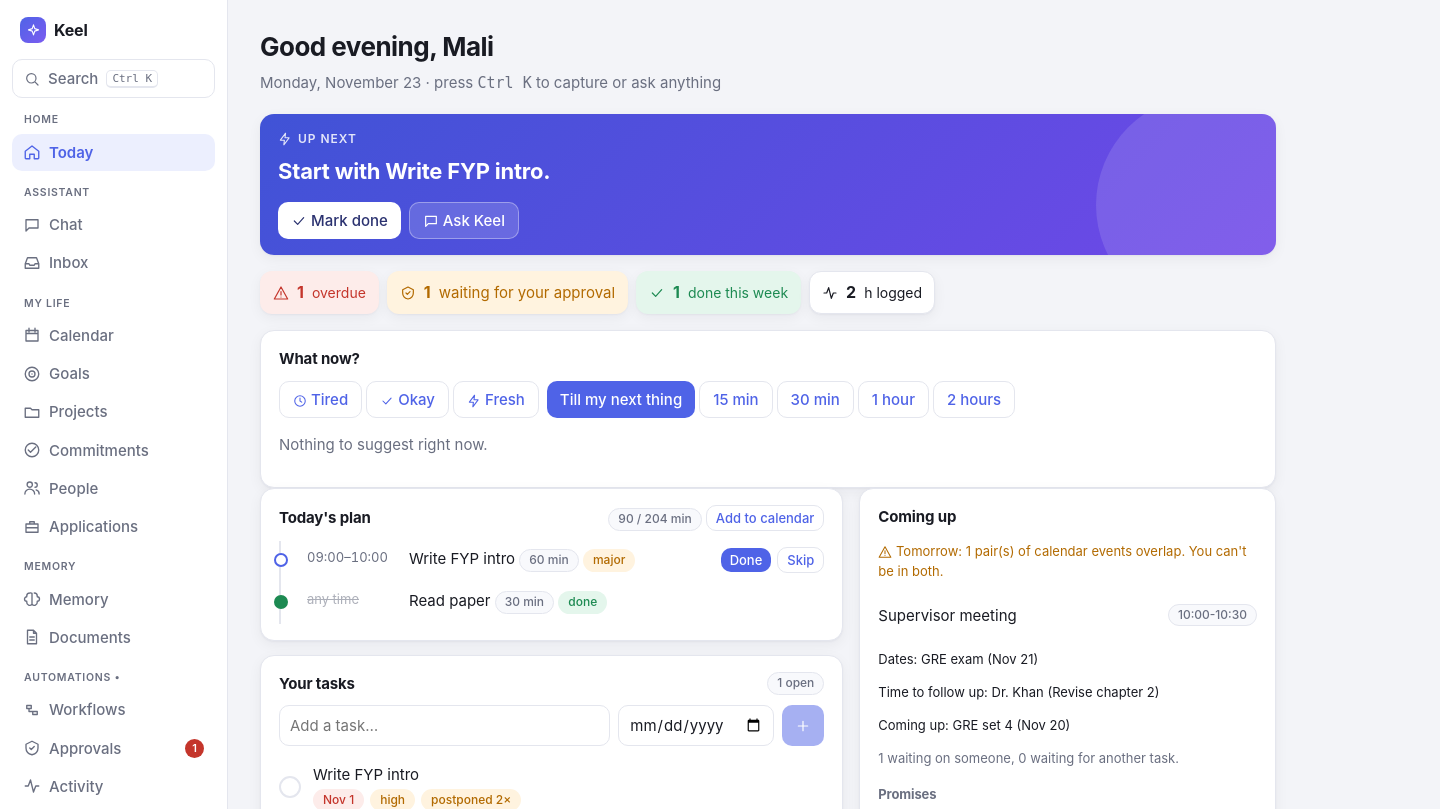
Scenario: dashboard smoke tests › Applications tab checks eligibility and readiness on request
What coordinates should you click on to do the following:
click the button "Applications"
I would click on:
 (114, 527)
Its box is top-left (12, 508), bottom-right (215, 545).
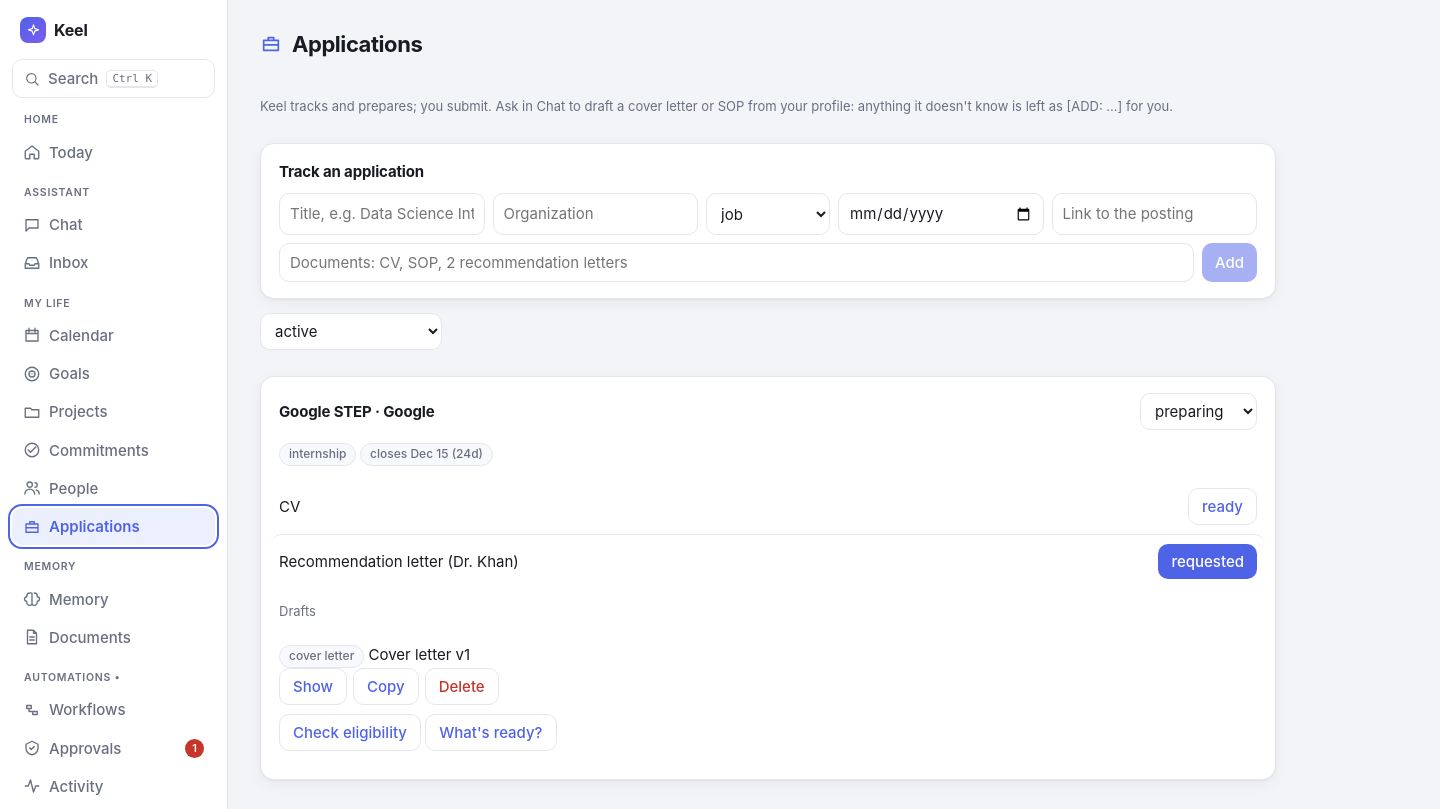
What coordinates should you click on to do the following:
click the button "Check eligibility"
I would click on:
 (350, 733)
Its box is top-left (279, 714), bottom-right (421, 751).
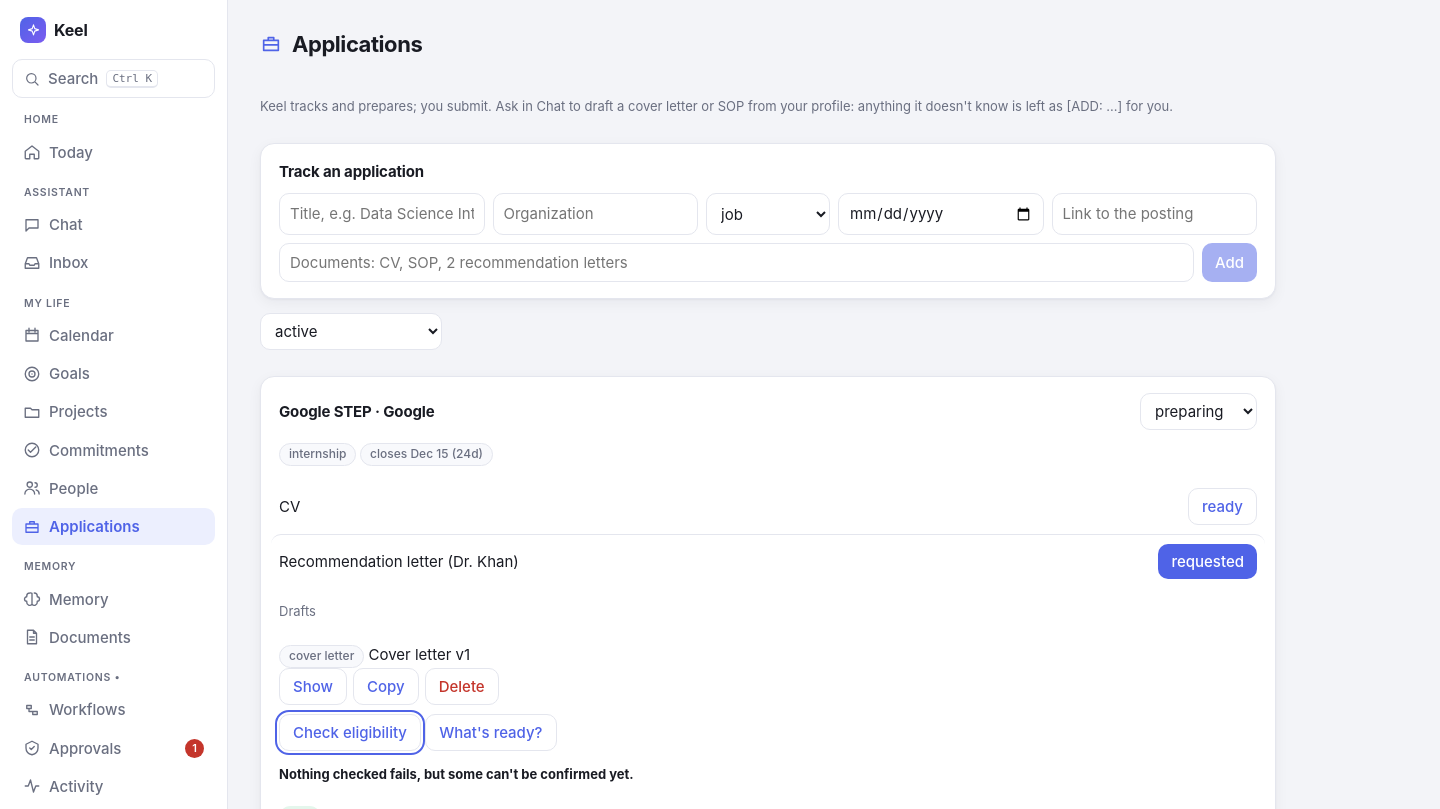
Result: the text "Nothing checked fails, but some can't be confirmed yet." is shown at top-left (279, 766), bottom-right (634, 782)
What coordinates should you click on to do the following:
click the button "What's ready?"
I would click on:
 (491, 733)
Its box is top-left (425, 714), bottom-right (556, 751).
(page scrolled)
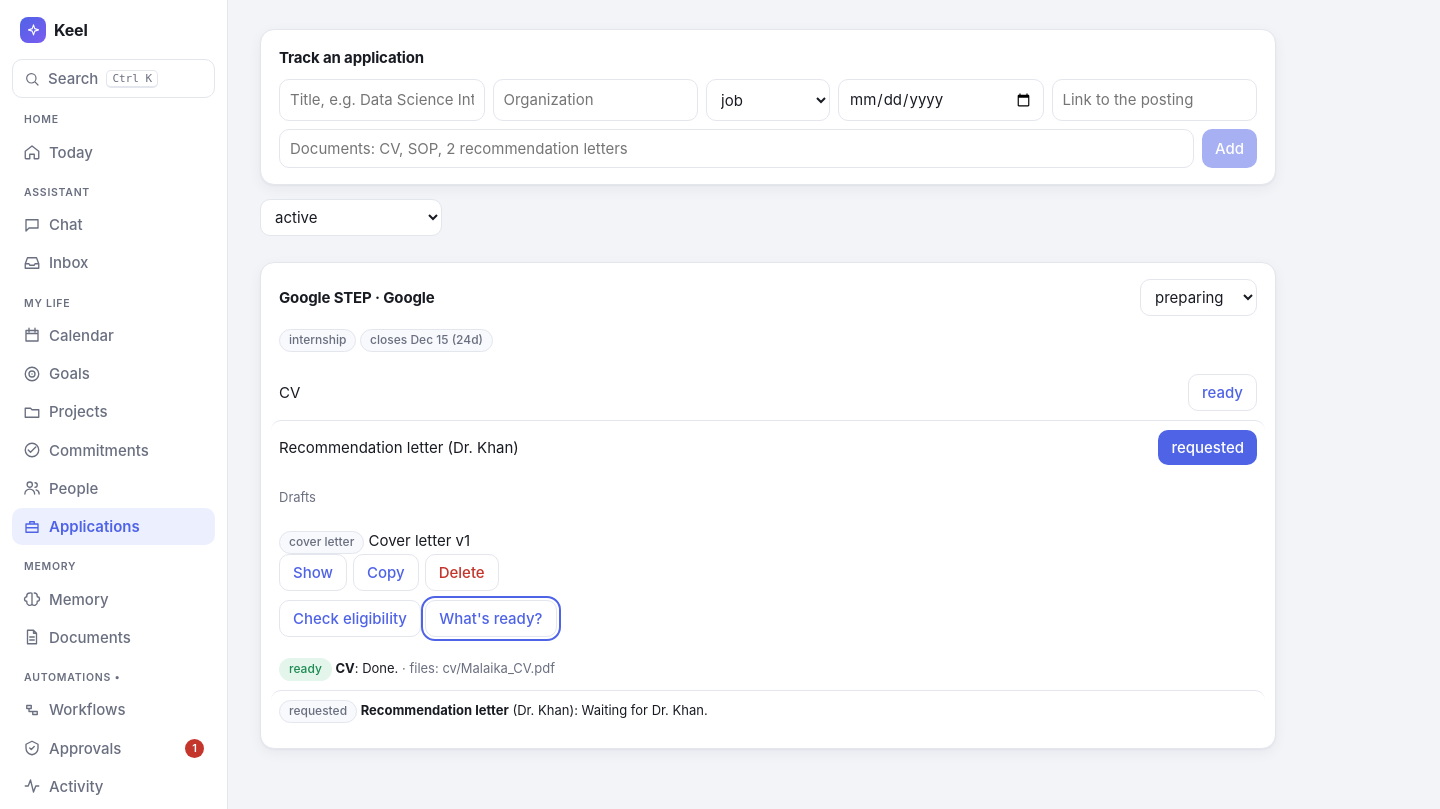
Result: the list item "Waiting for Dr. Khan." is shown at top-left (582, 702), bottom-right (708, 718)
